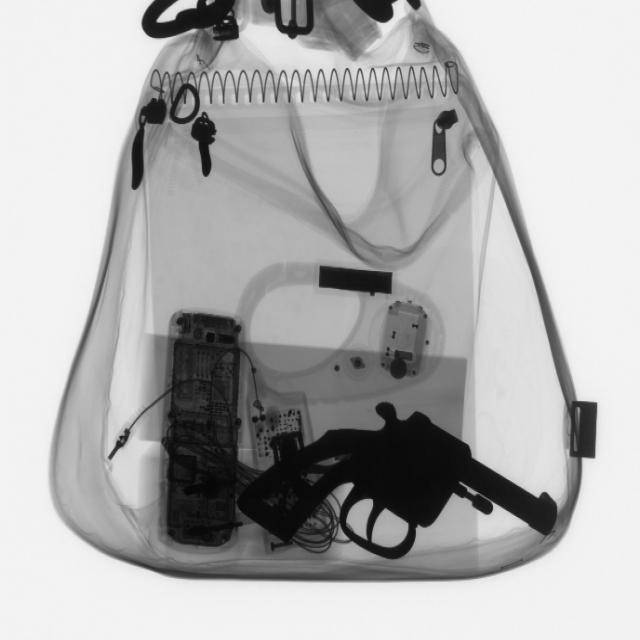GUN: (237, 395, 572, 574)
